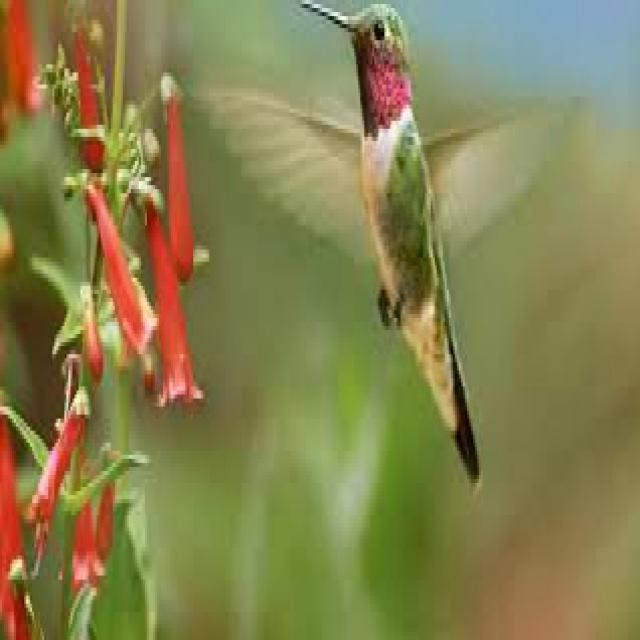hummingbird: (300, 0, 479, 479)
